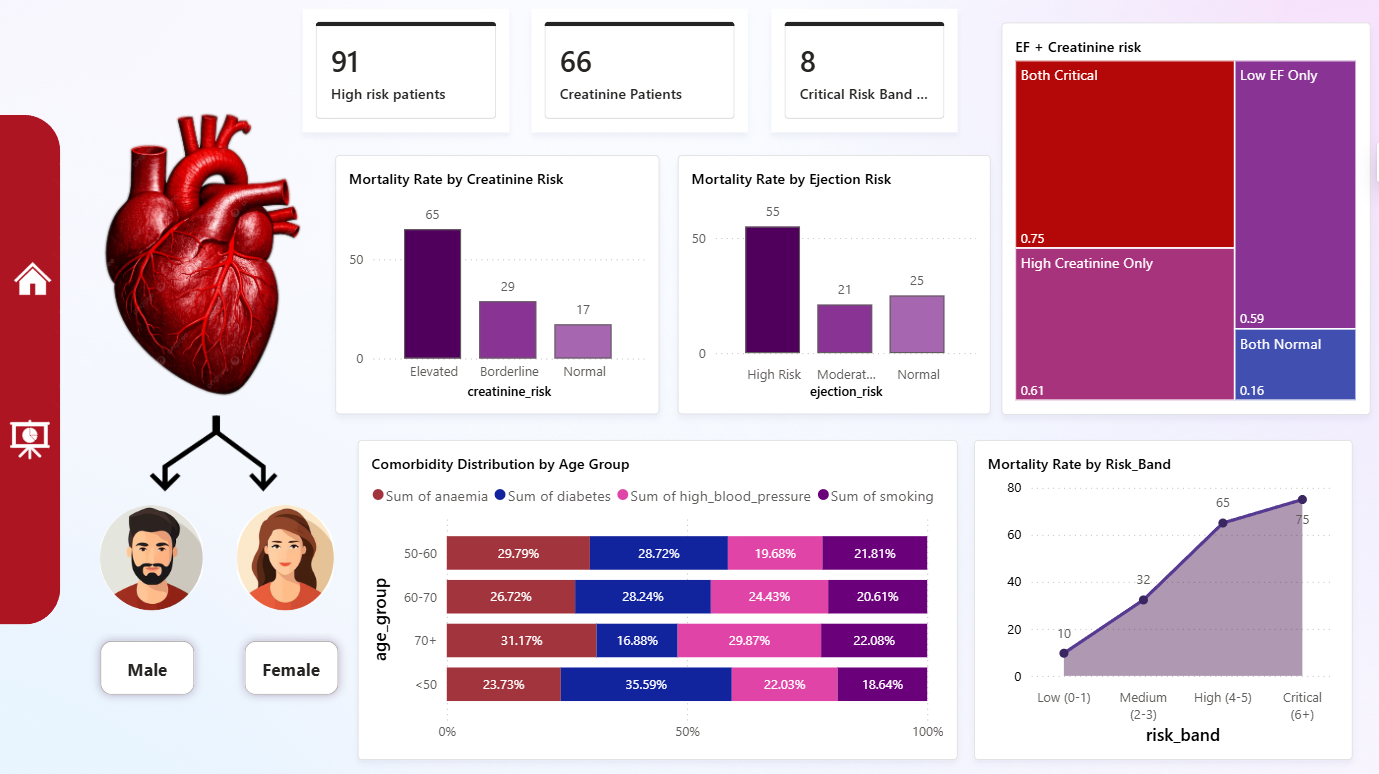

What the dashboard file says about the page in this screenshot:
{"tool":"powerbi","page":{"name":"Clinical Risk Analysis","canvas":[1280,720],"ordinal":1},"visuals":[{"type":"columnChart","title":"Mortality Rate by Ejection Risk","fields":{"Category":["Heart Disease EDA.ejection_risk"],"Y":["Heart Disease EDA.Mortality Rate"]},"box":[628.6,143.6,289.4,239.7],"z":0},{"type":"columnChart","title":"Mortality Rate by Creatinine Risk","fields":{"Category":["Heart Disease EDA.creatinine_risk"],"Y":["Heart Disease EDA.Mortality Rate"]},"box":[310.9,143.6,299.6,239.7],"z":1000},{"type":"cardVisual","fields":{"Data":["Heart Disease EDA.High risk patients"]},"box":[281.5,7.9,191.1,114.2],"z":2000},{"type":"cardVisual","fields":{"Data":["Heart Disease EDA.Creatinine Patients"]},"box":[493,7.9,200.1,114.2],"z":3000},{"type":"cardVisual","fields":{"Data":["Heart Disease EDA.Critical Risk Band Patients"]},"box":[714.6,7.9,173,114.2],"z":4000},{"type":"treemap","title":"EF + Creatinine risk","fields":{"Group":["Heart Disease EDA.EF Creatinine risk"],"Values":["Avg(Heart Disease EDA.Death_Event)"]},"box":[927.1,20.4,341.5,362.9],"z":5000},{"type":"areaChart","title":"Mortality Rate by Risk_Band","fields":{"Category":["Heart Disease EDA.risk_band"],"Y":["Heart Disease EDA.Mortality Rate"]},"box":[902.3,407,350.5,296.2],"z":6000},{"type":"hundredPercentStackedBarChart","title":"Comorbidity Distribution by Age Group","fields":{"Category":["Heart Disease EDA.age_group"],"Y":["Sum(Heart Disease EDA.anaemia)","Sum(Heart Disease EDA.diabetes)","Sum(Heart Disease EDA.high_blood_pressure)","Sum(Heart Disease EDA.smoking)"]},"box":[332.4,407,555.2,296.2],"z":7000},{"type":"shape","box":[0,106.3,56.5,471.5],"z":8000},{"type":"image","box":[11.3,220.5,39.6,73.5],"z":9000},{"type":"image","box":[5.7,359.5,45.2,93.8],"z":10000},{"type":"advancedSlicerVisual","fields":{"Values":["Heart Disease EDA.sex_label"]},"box":[57.7,577.8,288.3,82.5],"z":11000},{"type":"image","box":[47.5,80.3,284.9,313.2],"z":12000},{"type":"image","box":[92.7,467,97.2,97.2],"z":13000},{"type":"image","box":[218.2,467,92.7,97.2],"z":14000},{"type":"image","box":[177.5,383.3,104,73.5],"z":15000},{"type":"image","box":[119.8,383.3,100.6,73.5],"z":16000}]}

Visuals, with their boxes in screenshot pixels (x1, y1, x2, y2), scaled from the page's 1280x720 canvas onto the 1379x774 screenshot:
"Mortality Rate by Ejection Risk" columnChart: 677:154:989:412
"Mortality Rate by Creatinine Risk" columnChart: 335:154:658:412
cardVisual - Heart Disease EDA.High risk patients: 303:8:509:131
cardVisual - Heart Disease EDA.Creatinine Patients: 531:8:747:131
cardVisual - Heart Disease EDA.Critical Risk Band Patients: 770:8:956:131
"EF + Creatinine risk" treemap: 999:22:1367:412
"Mortality Rate by Risk_Band" areaChart: 972:438:1350:756
"Comorbidity Distribution by Age Group" hundredPercentStackedBarChart: 358:438:956:756
shape: 0:114:61:621
image: 12:237:55:316
image: 6:386:55:487
advancedSlicerVisual - Heart Disease EDA.sex_label: 62:621:373:710
image: 51:86:358:423
image: 100:502:205:607
image: 235:502:335:607
image: 191:412:303:491
image: 129:412:237:491
